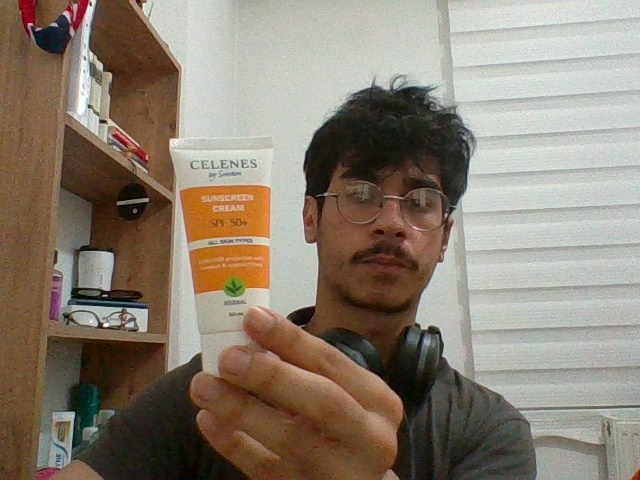CelenesSunCream: (167, 137, 276, 355)
